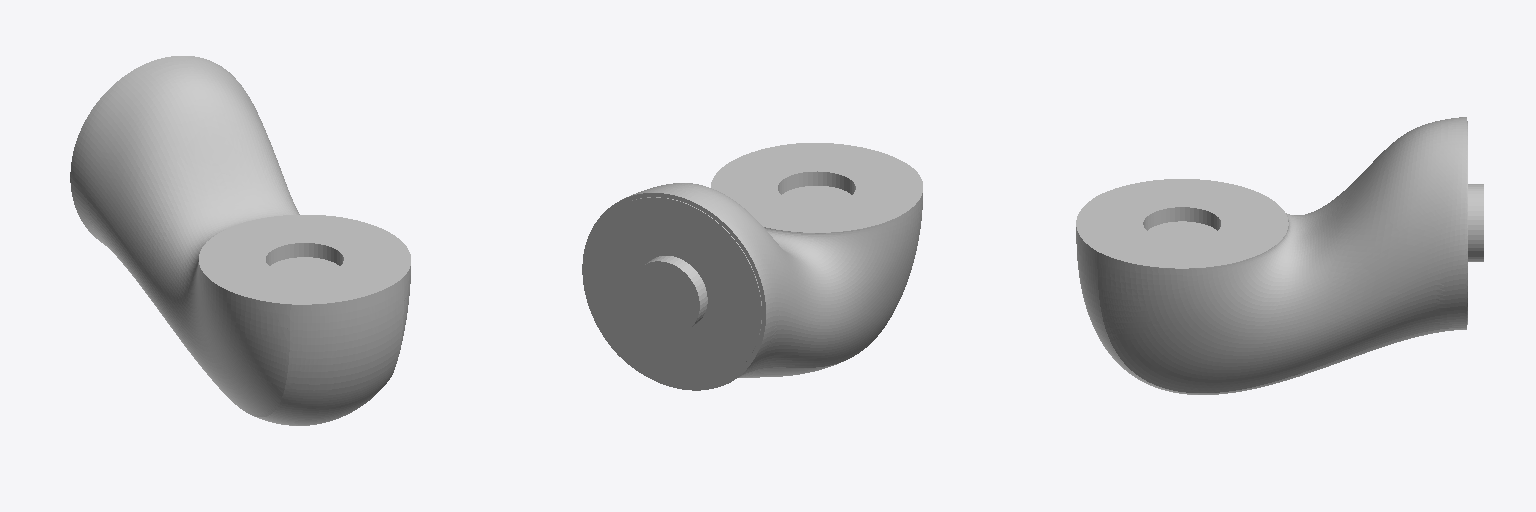
3 views of the same model, side by side, from view 1: azimuth 30°, elevation 25°; view 2: azimuth 150°, elevation 25°; view 3: azimuth 270°, elevation 25° (orthographic).
Visible parts, largest first — view 1: <STL_BINARY>; view 2: <STL_BINARY>; view 3: <STL_BINARY>.
Boxes of the visible parts, box(x1,y1,x2,y2) form: <STL_BINARY>: box(70, 56, 410, 425); <STL_BINARY>: box(582, 143, 922, 390); <STL_BINARY>: box(1076, 117, 1483, 394).
Bounding box in the file's own units: 136 × 183 × 261.